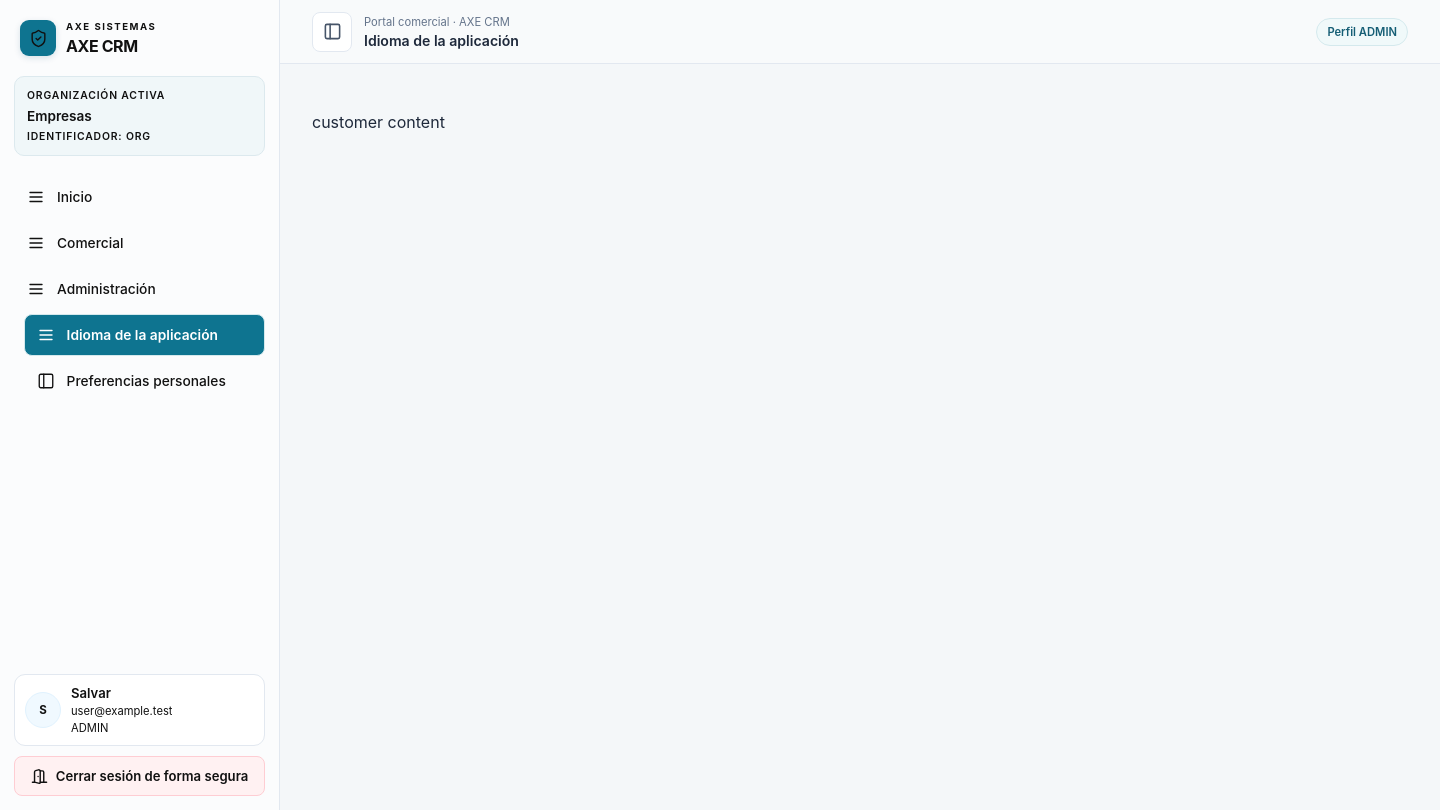
it: translated CRM shell › renders navigation in es without translating customer names
Expected: the button "Idioma de la aplicación" is shown, [24, 314, 265, 356]
Click the button with aria-label "Grupo Comercial" at x=140, y=243, box [14, 222, 265, 264]
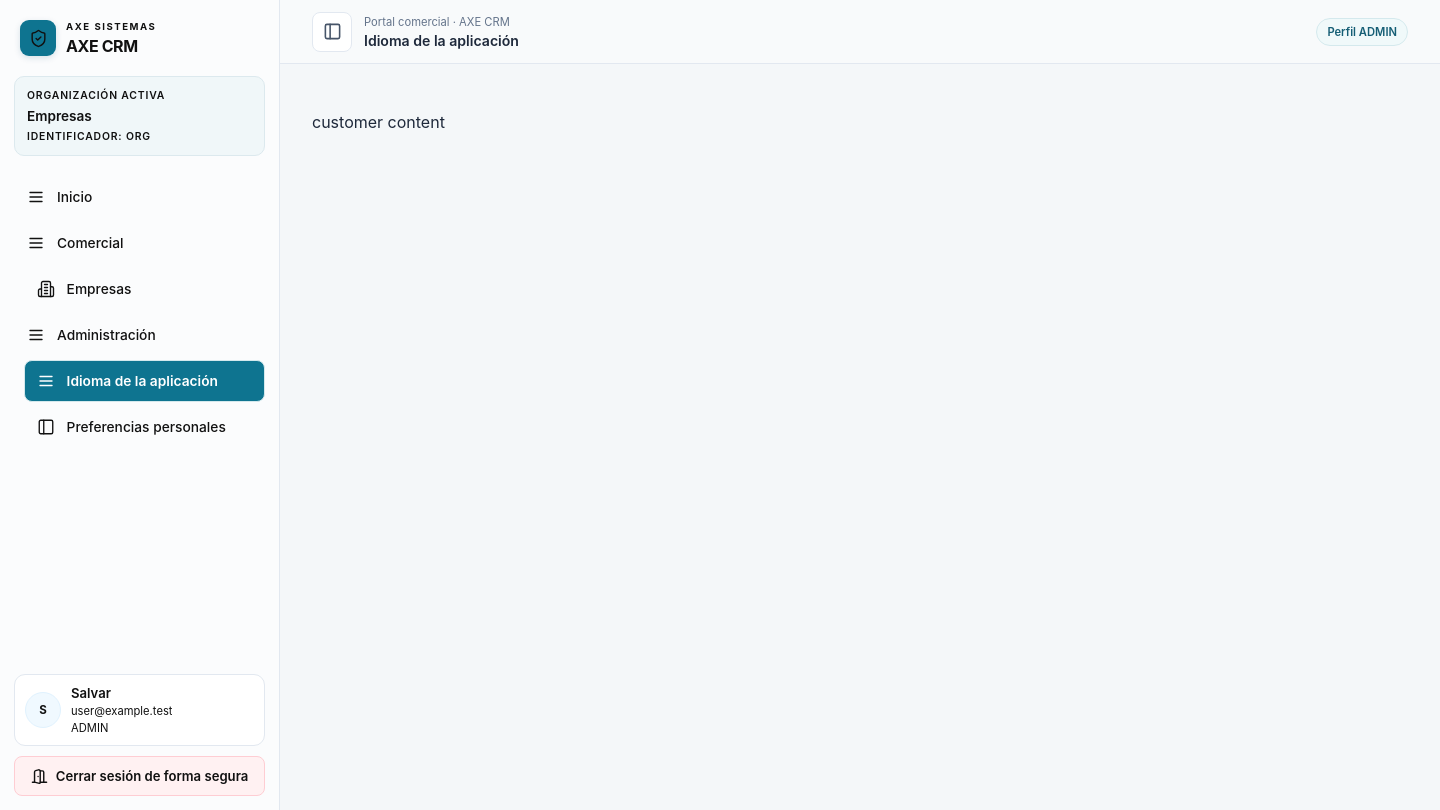
Expected: the text "Salvar" is shown, [71, 685, 111, 701]
Now the button "Empresas" is shown, box [24, 268, 265, 310]
